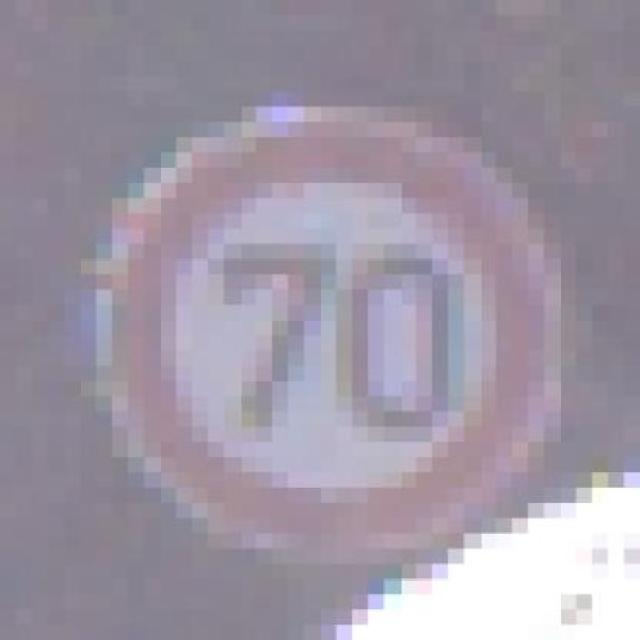forb_speed_over_70: (118, 115, 551, 559)
